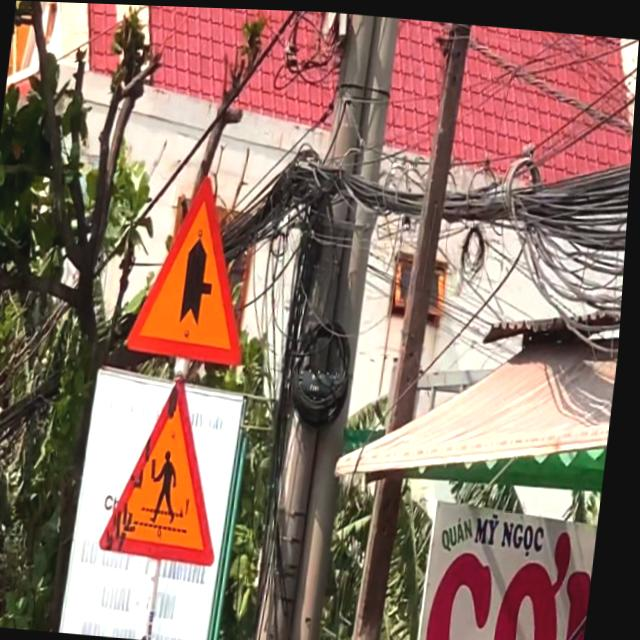Giao nhau voi duong khong uu tien ben phai: (122, 159, 272, 375)
Nguoi di bo cat ngang: (95, 356, 249, 575)
